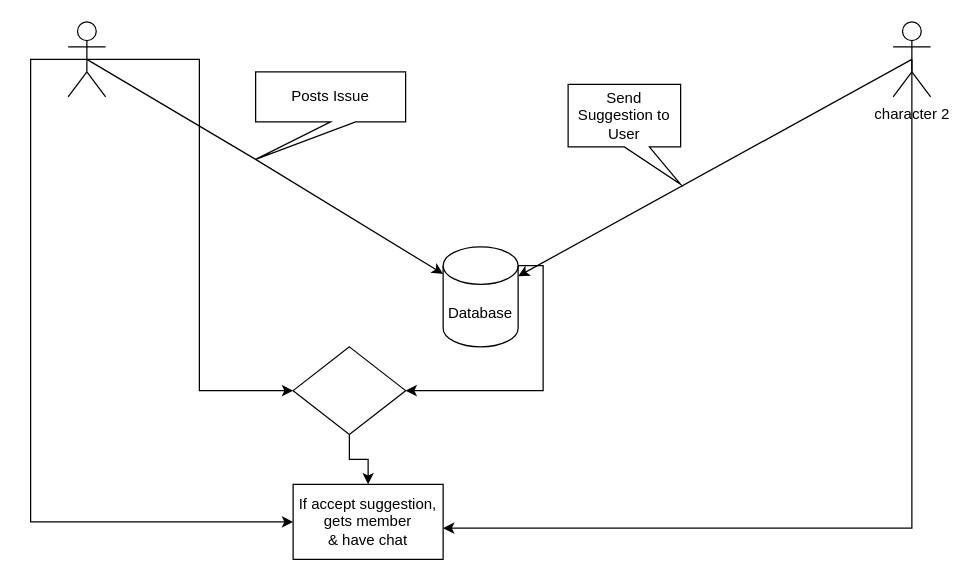
This 971x581 diagram has some shape labels left out. Here are the shapes that lost their labels. From the top down, the centre of each, then its label:
the point at 86,59: character 1
the point at 349,390: Accept or not
